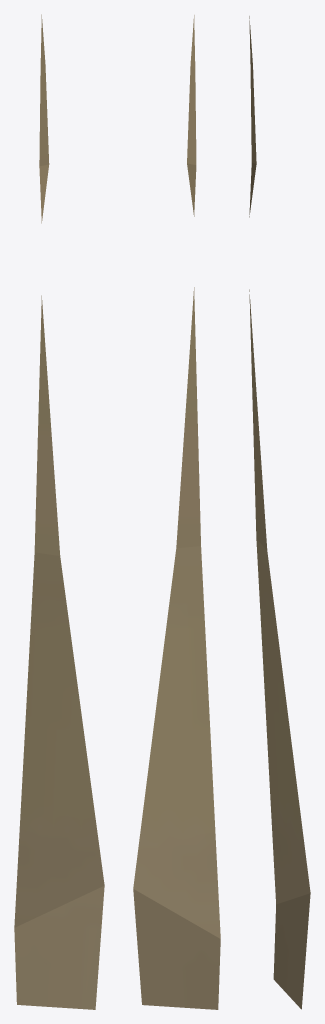
The picture shows the model from 3 angles, left to right: view 1: azimuth 30°, elevation 25°; view 2: azimuth 210°, elevation 25°; view 3: azimuth 330°, elevation 25°; orthographic projection. The views are drawn at different scales.
Size of the model in its own units: 0.0167 by 0.2565 by 0.0126.
1 material, 1 textured.
